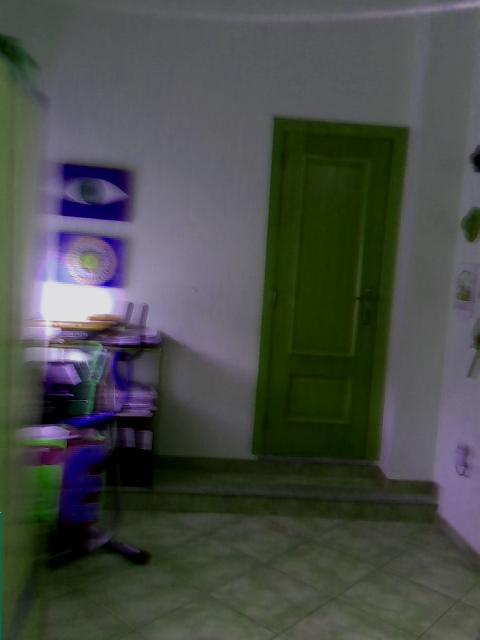closed_door: (250, 117, 407, 456)
